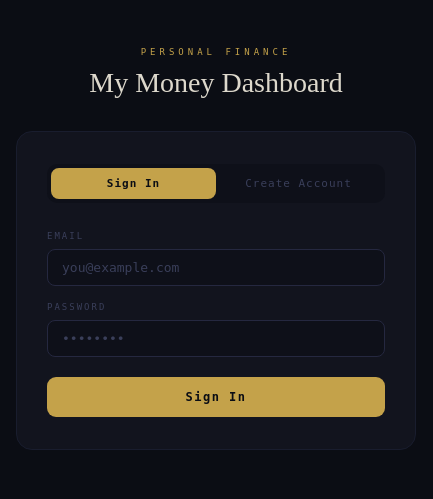
Scenario: shows the server error message when login fails
Type "a@b.com" into the field with placeholder "you@example.com" at (216, 267), box [47,248,385,286]
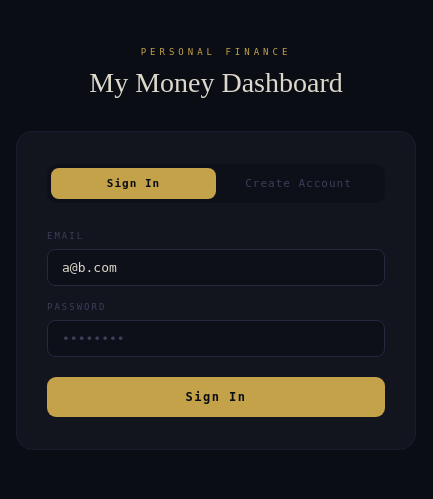
Type "wrongpass" into the password field with placeholder "••••••••" at (216, 338), box [47,320,385,356]
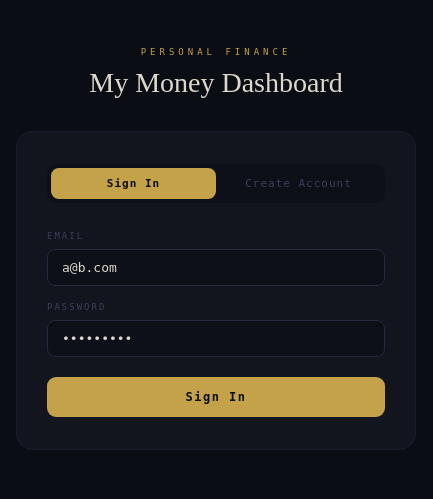
Press Enter in the password field, box [47,320,385,356]
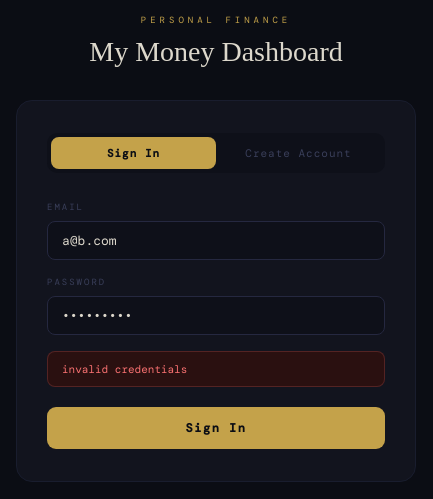
expect the text "invalid credentials" is shown: met, box [47,351,385,387]
